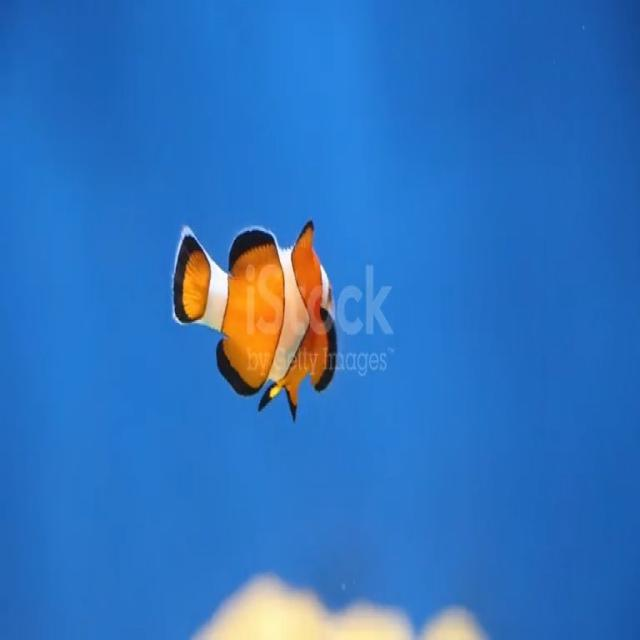fish: (164, 203, 345, 430)
